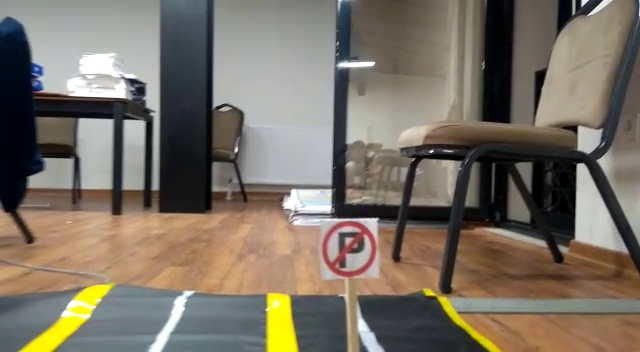park_yapilmaz: (321, 224, 379, 278)
